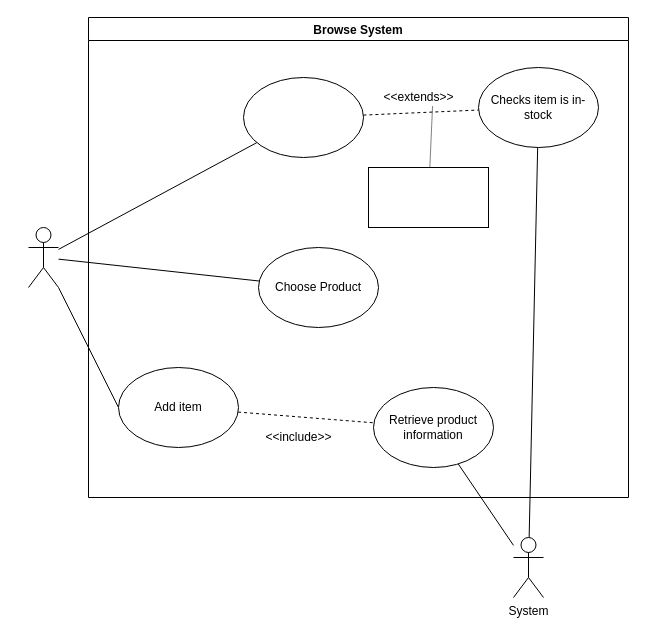
This 646x636 diagram has some shape labels left out. Here are the shapes that lost their labels. From the top down, the centre of each, then its label:
(x=303, y=117): Filter
(x=428, y=197): Note: If item is not instock returns an error image
(x=43, y=257): Customer
